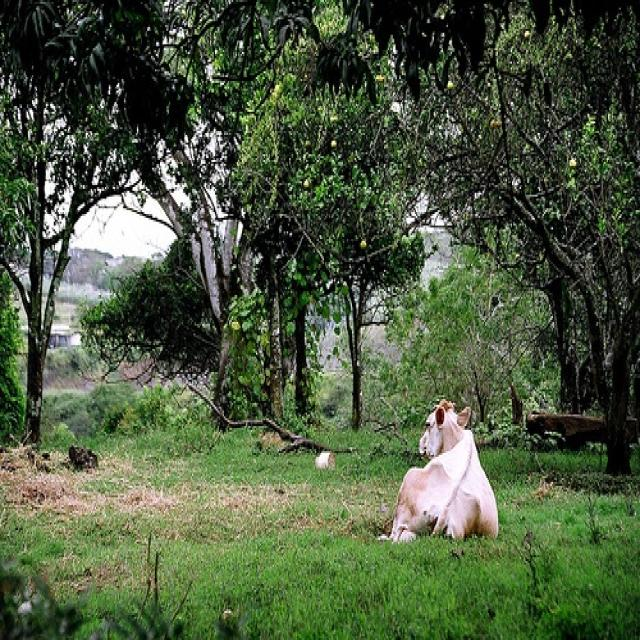cow: (386, 396, 503, 562)
